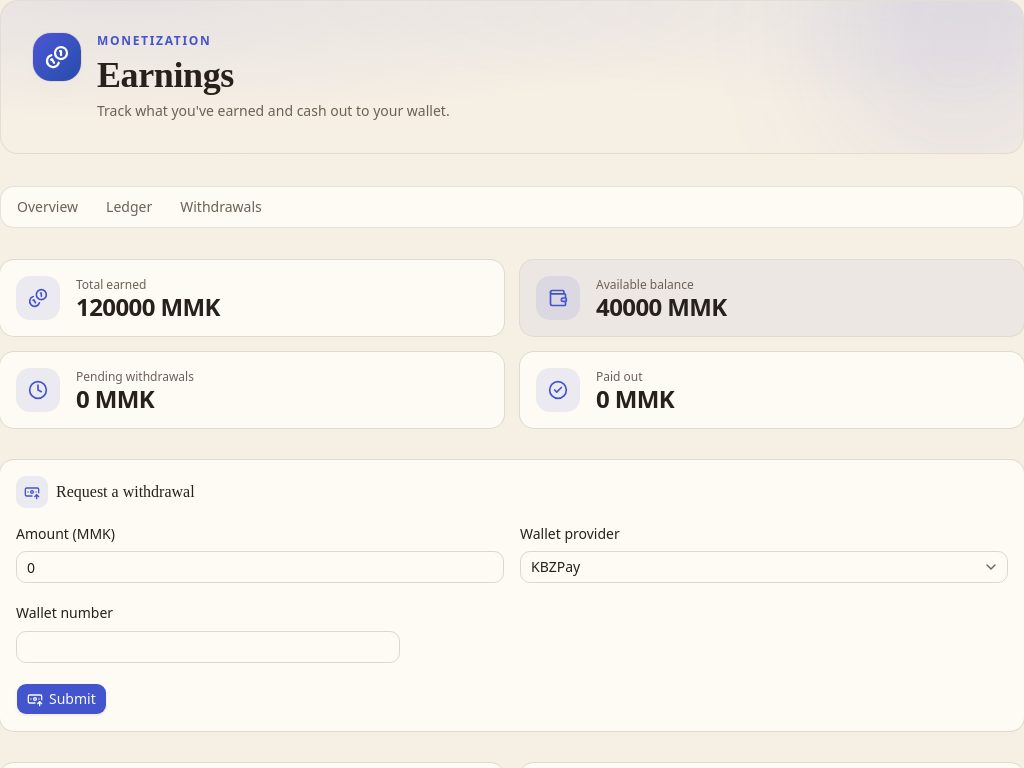
Scenario: EarningsDashboardPage (overview) › shows a validation error below the minimum withdrawal amount
The width and height of the screenshot is (1024, 768).
Expected: the text "40000 MMK" is shown, 596,295 -> 727,319
Type "100" into the number field labelled "Amount (MMK)" at (260, 567), box 16,551 -> 504,583
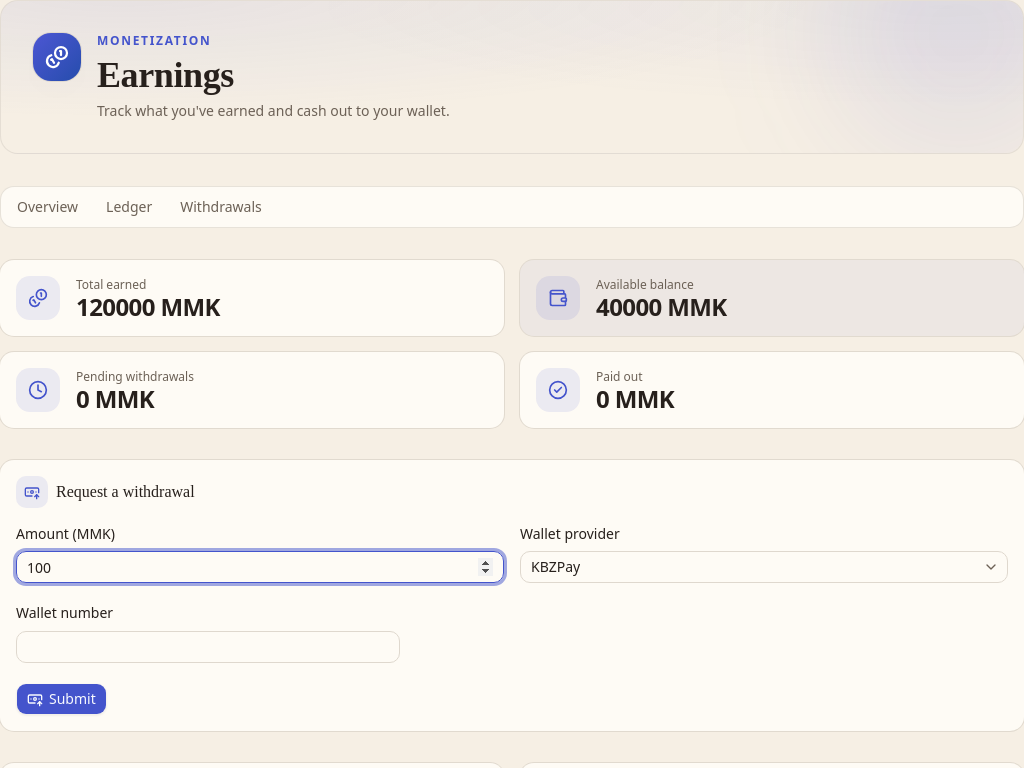
Type "09123456789" into the field labelled "Wallet number" at (208, 646), box 16,630 -> 400,662
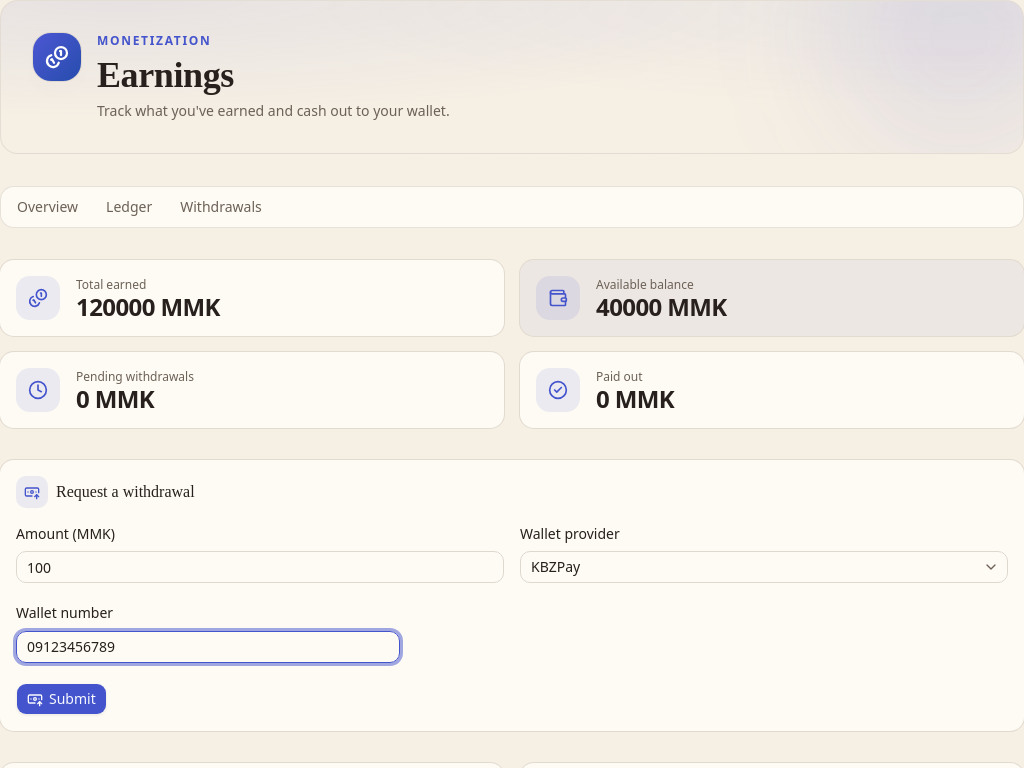
Click the button "Submit" at (61, 698), box 16,682 -> 107,714
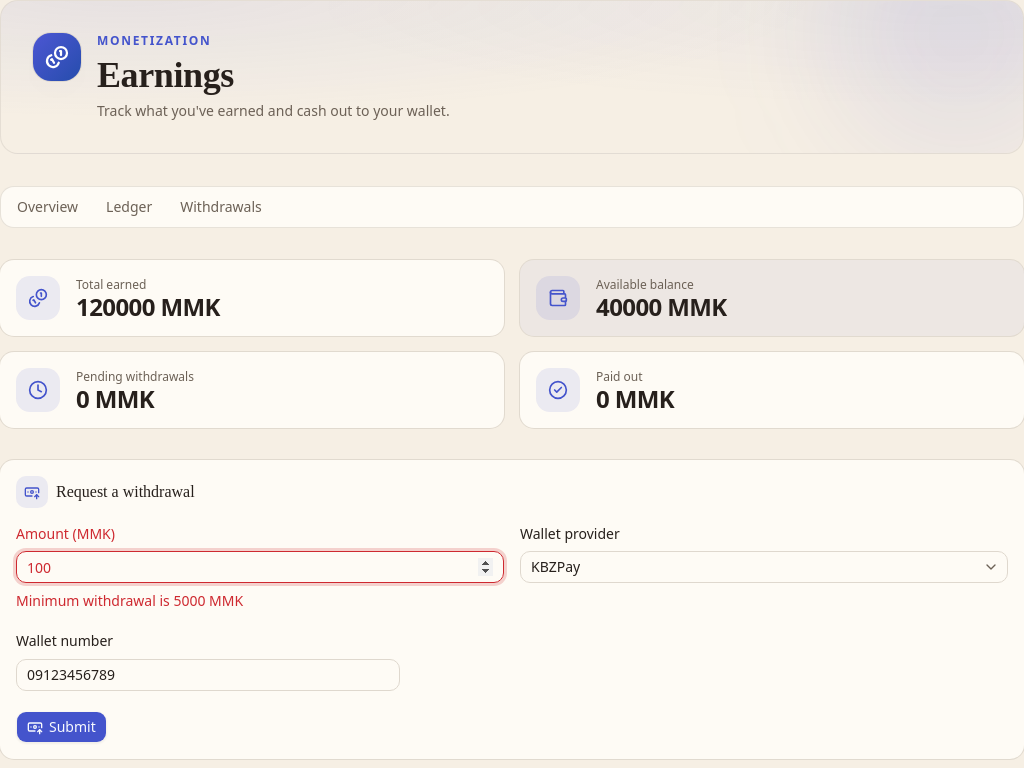
Expected: the text "Minimum withdrawal is 5000 MMK" is shown, 16,591 -> 243,610
